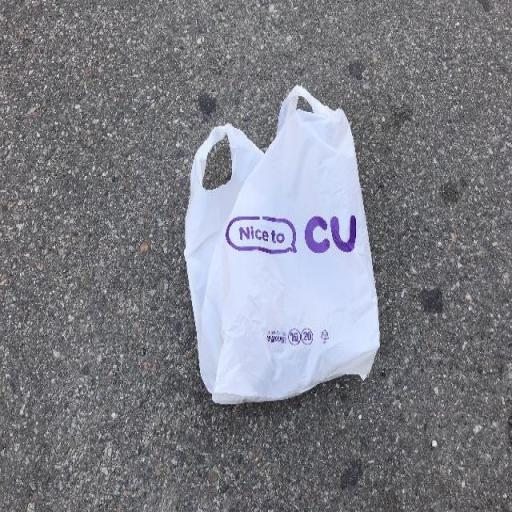plastic-bag: (184, 84, 386, 404)
